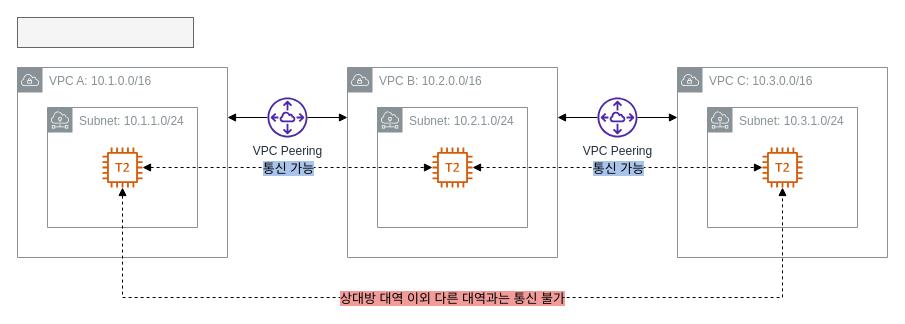
This 905x324 diagram has some shape labels left out. Each missing label, with the centre of its shape:
"EC2 10.1.1.10" belongs at (x=122, y=167).
"EC2 10.2.1.10" belongs at (x=452, y=167).
"EC2 10.3.1.10" belongs at (x=782, y=167).
"Transit Routing 미지원" belongs at (x=105, y=32).
